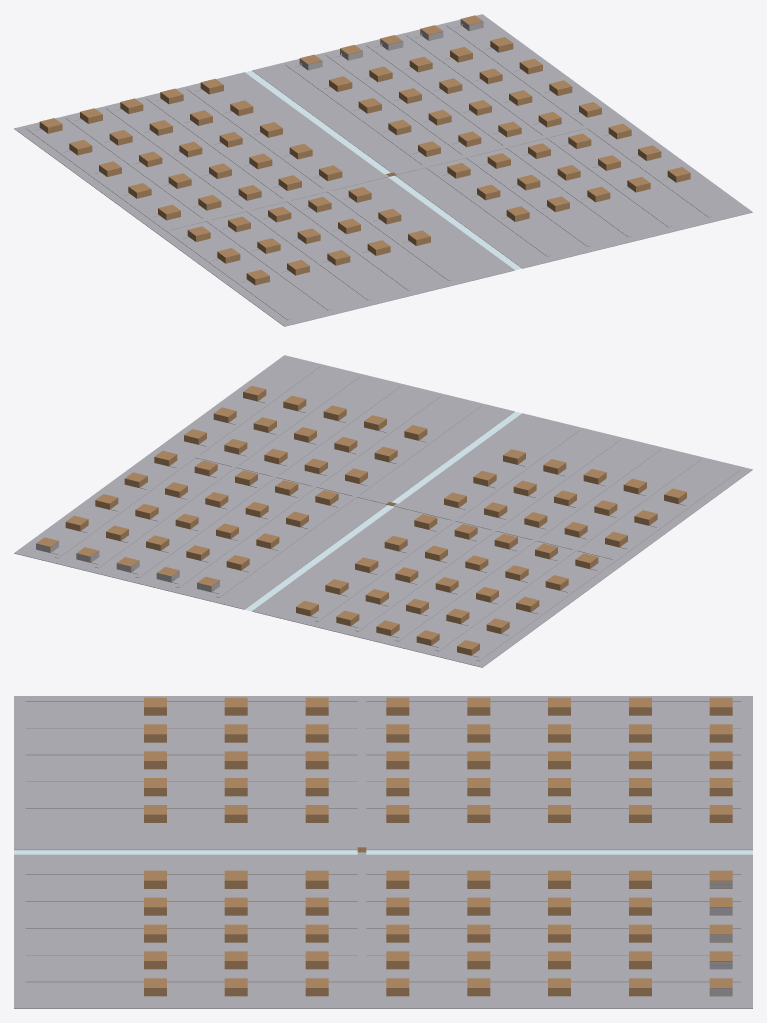
The model's file is city.glb.
3 views of the same model, one above another, from view 1: azimuth 30°, elevation 25°; view 2: azimuth 150°, elevation 25°; view 3: azimuth 270°, elevation 25° (orthographic). The views are drawn at different scales.
Visible parts, largest first — view 1: terrain_west_proxy, terrain_east_proxy, river_water_proxy, road_east_1, road_east_2, road_west_4, road_east_4, road_west_2, road_west_0, road_west_1, road_east_0, road_west_3 (+3 smaller); view 2: terrain_west_proxy, terrain_east_proxy, river_water_proxy, road_west_4, road_east_2, road_west_2, road_west_3, road_east_0, road_east_4, road_west_1, road_east_1, road_west_0 (+3 smaller); view 3: terrain_west_proxy, terrain_east_proxy, river_water_proxy, road_west_3, road_east_2, road_west_2, road_east_4, road_east_3, road_west_0, road_west_1, road_east_1, road_west_4 (+3 smaller).
Boxes of the visible parts, box(x1,y1,x2,y2) form: terrain_west_proxy: box(252, 14, 752, 268); terrain_east_proxy: box(14, 72, 514, 326); river_water_proxy: box(245, 70, 521, 270); road_east_1: box(146, 97, 411, 290); road_east_2: box(106, 107, 371, 300); road_west_4: box(285, 64, 550, 256); road_east_4: box(25, 127, 290, 320); road_west_2: box(366, 44, 631, 236); road_west_0: box(446, 24, 711, 217); road_west_1: box(406, 34, 671, 227); road_east_0: box(187, 88, 451, 280); road_west_3: box(326, 54, 590, 246); terrain_west_proxy: box(14, 355, 514, 609); terrain_east_proxy: box(252, 413, 752, 667); river_water_proxy: box(245, 411, 521, 611); road_west_4: box(216, 405, 481, 597); road_east_2: box(395, 448, 660, 641); road_west_2: box(135, 385, 400, 577); road_west_3: box(176, 395, 440, 587); road_east_0: box(315, 429, 579, 621); road_east_4: box(476, 468, 741, 661); road_west_1: box(95, 375, 360, 568); road_east_1: box(355, 438, 620, 631); road_west_0: box(55, 365, 320, 558); terrain_west_proxy: box(14, 854, 752, 1008); terrain_east_proxy: box(14, 696, 752, 849); river_water_proxy: box(14, 850, 752, 854); road_west_3: box(25, 898, 741, 901); road_east_2: box(25, 752, 741, 755); road_west_2: box(25, 925, 741, 928); road_east_4: box(25, 698, 741, 701); road_east_3: box(25, 725, 741, 728); road_west_0: box(25, 979, 741, 982); road_west_1: box(25, 952, 741, 955); road_east_1: box(25, 779, 741, 781); road_west_4: box(25, 872, 741, 874).
Bounding box in the file's own units: 512 × 8.6 × 512.
